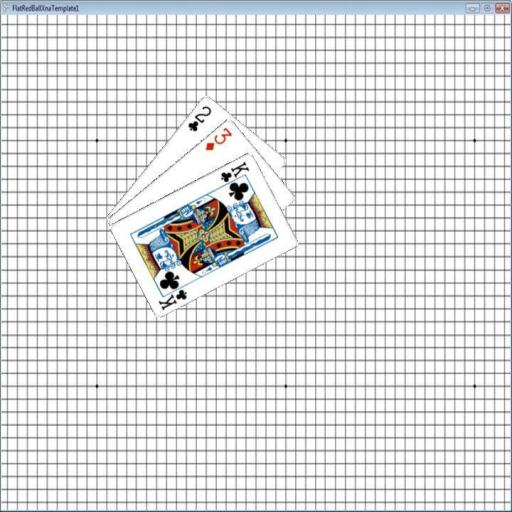card-corner: (155, 280, 188, 312), (218, 158, 251, 188), (202, 124, 234, 152), (185, 102, 213, 133)
